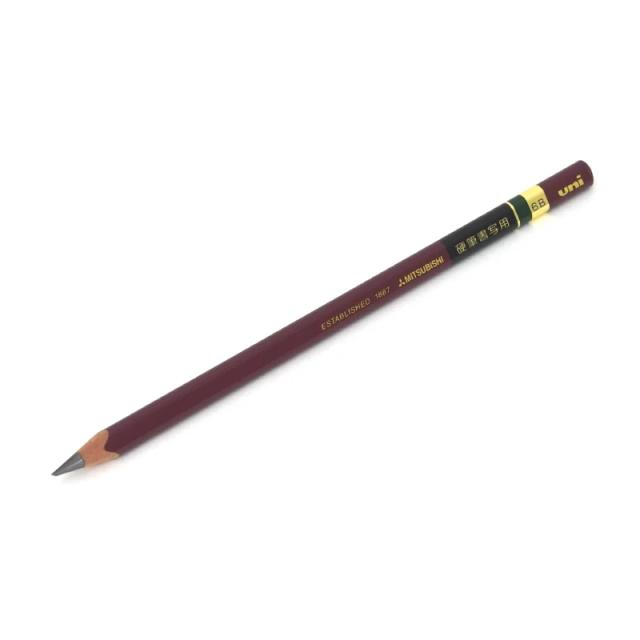pencil: (43, 150, 607, 485)
